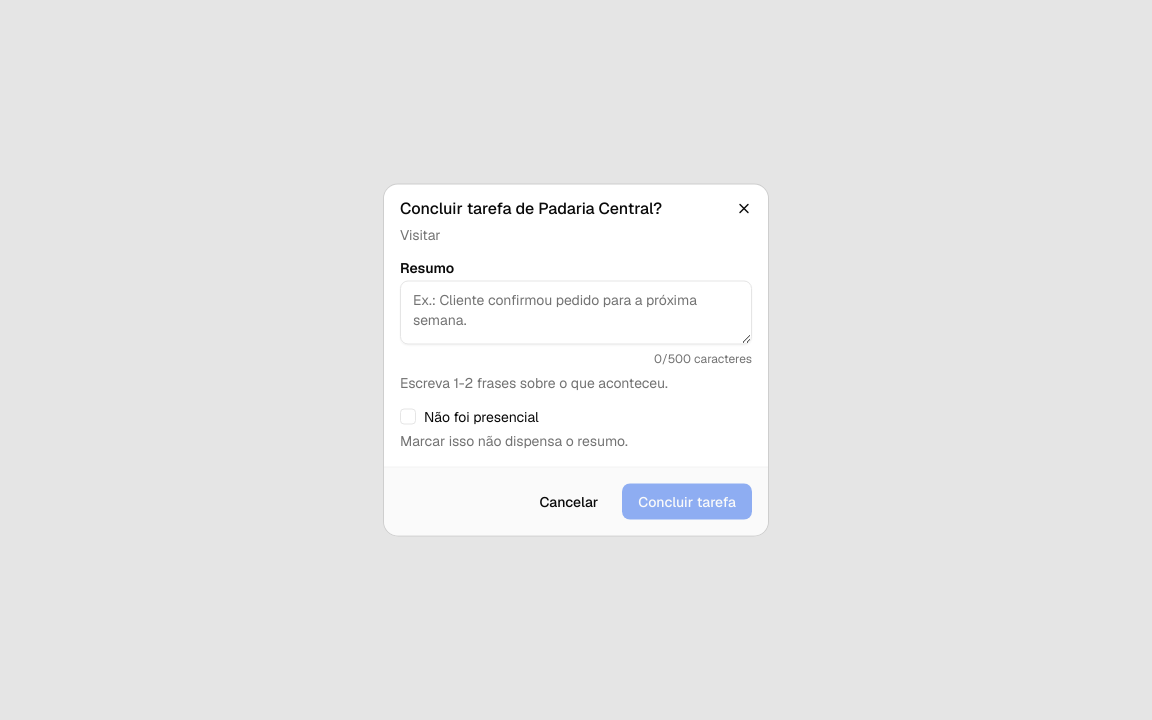
it: ConcluirItemDialog (CONC-01/VIS-03) › semlista: marcação ligada com catálogo vazio mostra a mensagem de nenhum motivo cadastrado e mantém o botão indisponível
The width and height of the screenshot is (1152, 720).
Type "Cliente confirmou pedido para a próxima semana." into the text box.
click(576, 312); type("Cliente confirmou pedido para a próxima semana.")  # box [400,280,752,344]
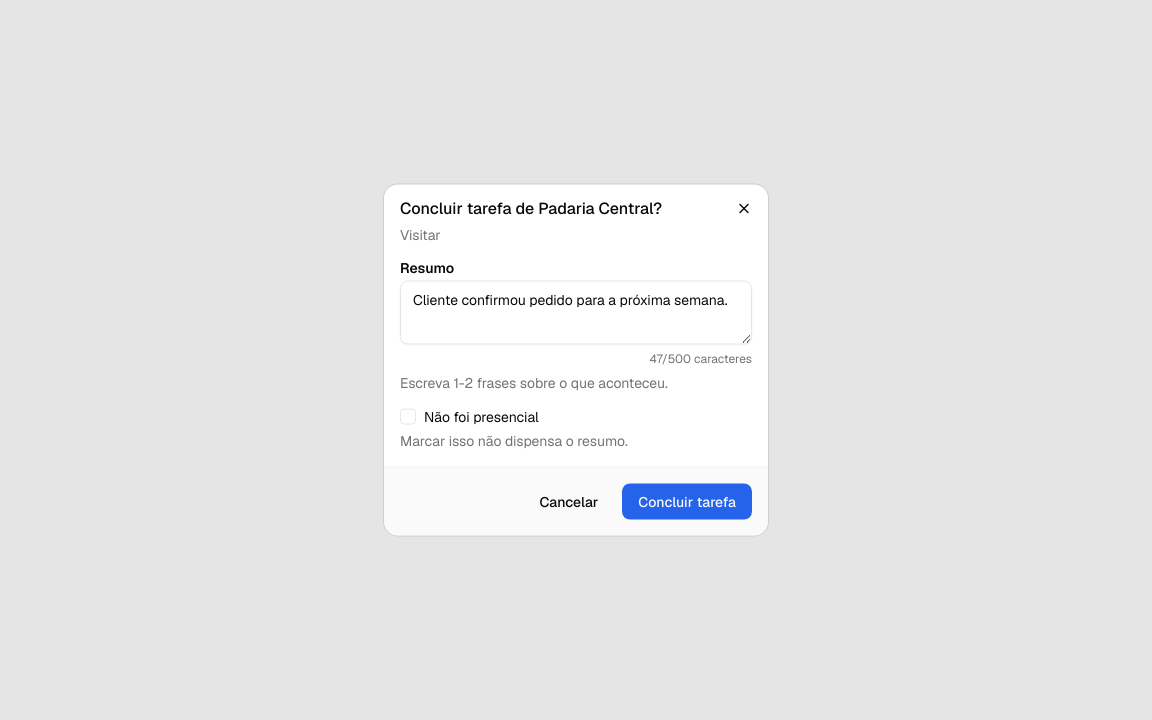
Click the checkbox named "Não foi presencial".
click(408, 416)  # box [400,408,416,424]
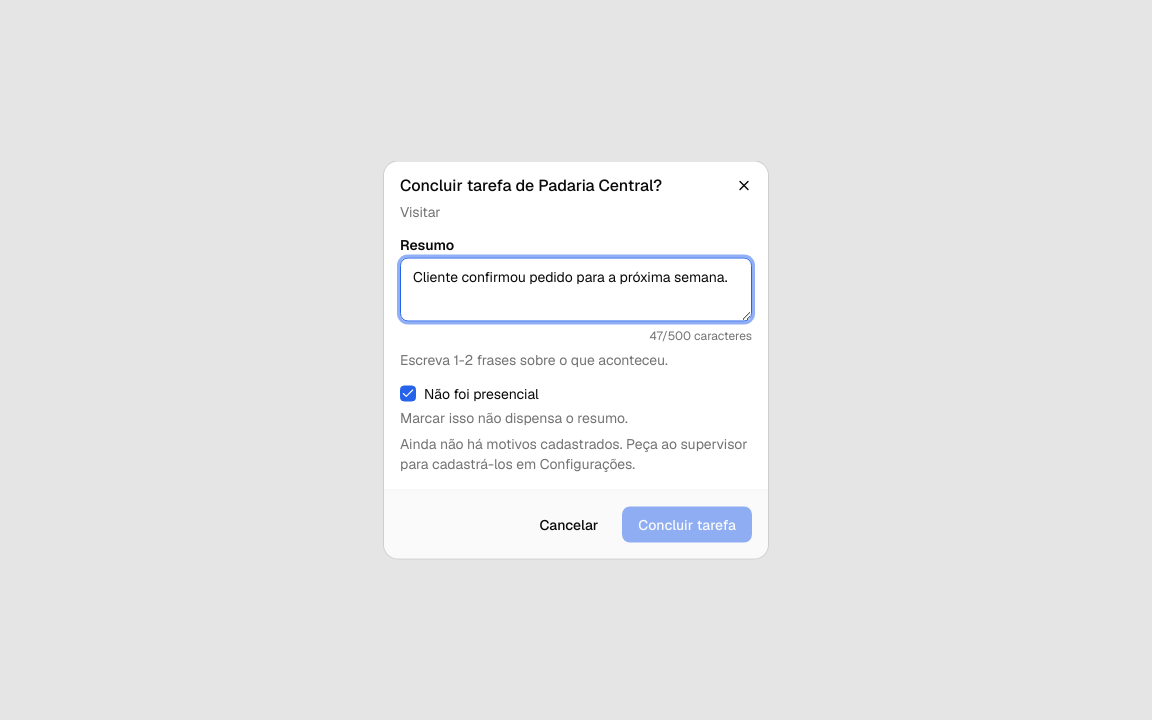
Now the text "Ainda não há motivos cadastrados. Peça ao supervisor para cadastrá-los em Configurações." is shown, box [400,434,748,472]
Now the button "Concluir tarefa" is disabled, box [622,506,752,542]
